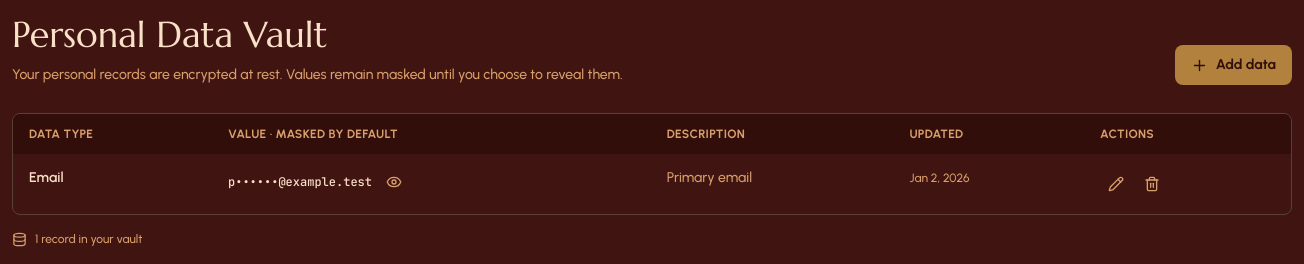
Scenario: vault rendering › masks an API-returned sensitive value until explicitly revealed
The image size is (1304, 264).
Expected: the text "private@example.test" is not shown
Expected: the text "p••••••@example.test" is shown, [228,174,372,190]
Click the button named "Reveal email value". click: click(394, 182)
box: [380,168,408,196]
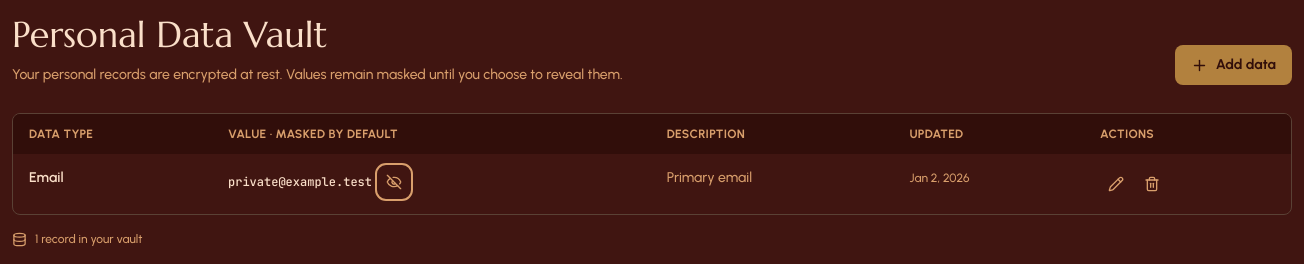
Expected: the number of buttons named "Hide email value" is 1, [380,168,408,196]
Now the text "private@example.test" is shown, box [228,174,372,190]
